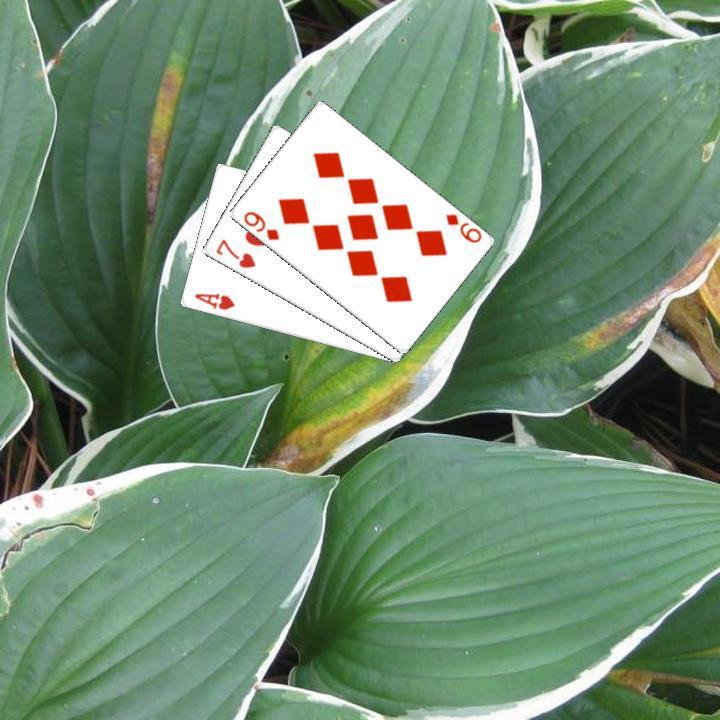7: (211, 235, 257, 270)
9: (238, 207, 281, 243), (441, 209, 483, 245)
A: (190, 289, 237, 312)
